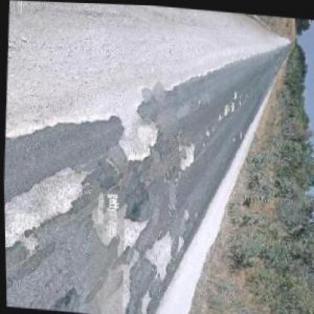Hueco: (3, 158, 91, 259), (115, 109, 162, 162), (143, 227, 175, 279), (119, 213, 152, 252), (175, 140, 197, 170), (137, 284, 152, 313), (220, 98, 230, 113), (232, 88, 238, 98)
